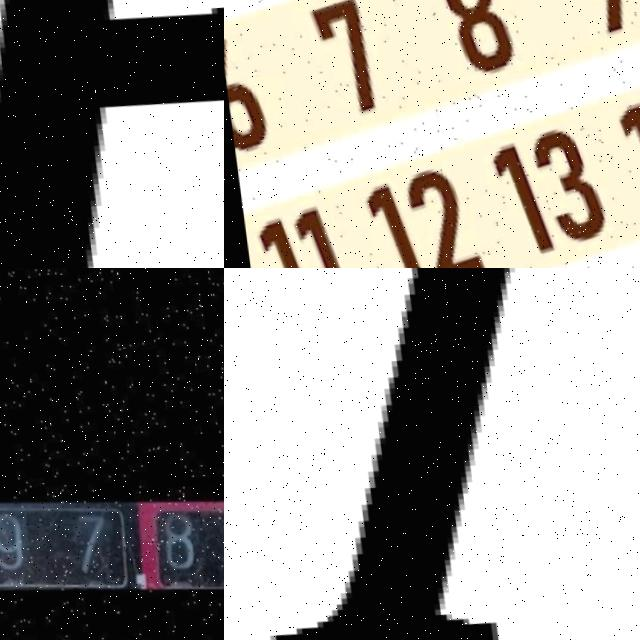1: (482, 133, 556, 262), (351, 175, 425, 268), (280, 197, 356, 268), (602, 91, 640, 220), (242, 208, 320, 268)
2: (391, 156, 485, 268)
3: (520, 117, 606, 245)
6: (224, 26, 273, 158)
7: (301, 0, 393, 121), (65, 506, 110, 578)
8: (423, 0, 519, 80), (151, 503, 197, 571)
9: (550, 0, 640, 40), (0, 503, 24, 569)
I: (265, 268, 510, 640)
